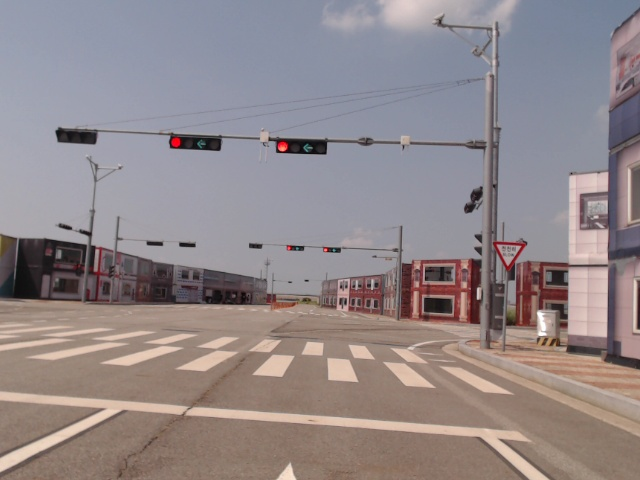left_green_4: (171, 136, 220, 151), (277, 141, 327, 155)
